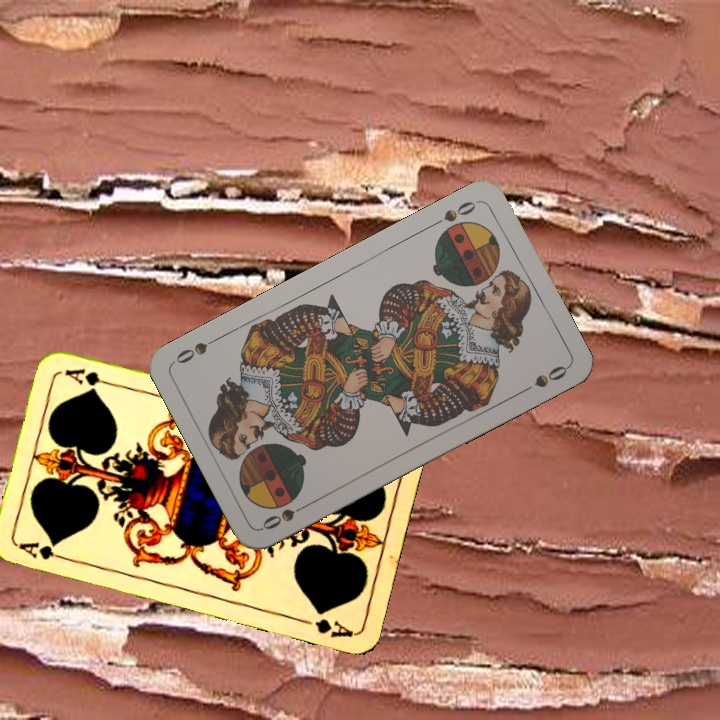GA: (15, 538, 73, 564)
SO: (258, 498, 313, 533), (427, 196, 482, 230)
